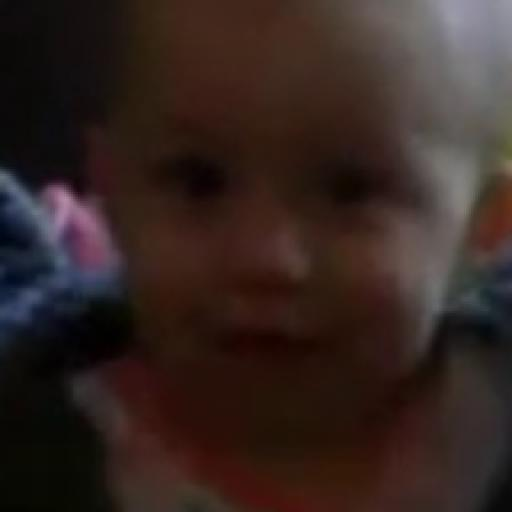Autism: (112, 4, 512, 461)
